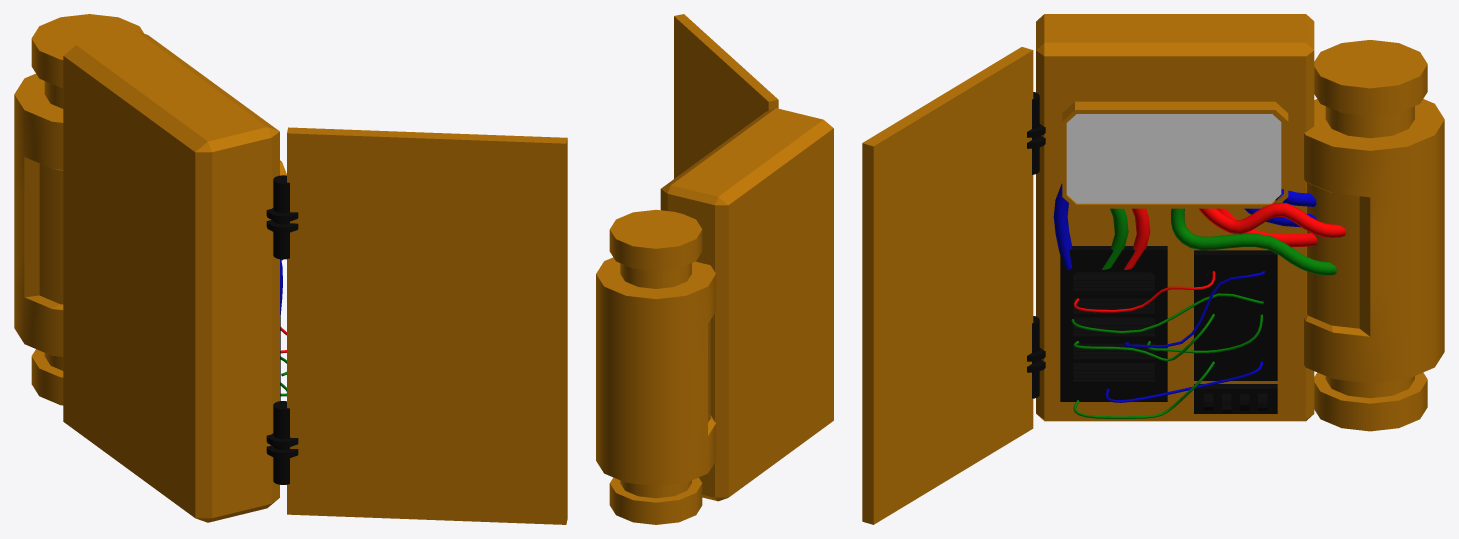
Rendered from SM_panneau2.FBX.
The picture shows the model from 3 angles, left to right: view 1: azimuth 30°, elevation 25°; view 2: azimuth 150°, elevation 25°; view 3: azimuth 270°, elevation 25°; orthographic projection. The views are drawn at different scales.
Visible parts, largest first — view 1: Box263; view 2: Box263; view 3: Box263, Group006.
Boxes of the visible parts, x1,y1,x2,y2 form: Box263: (14,14,567,524); Box263: (596,14,833,524); Box263: (862,14,1444,524); Group006: (1053,114,1346,418).
Bounding box in the file's own units: 44.54 × 55.4 × 77.29.
